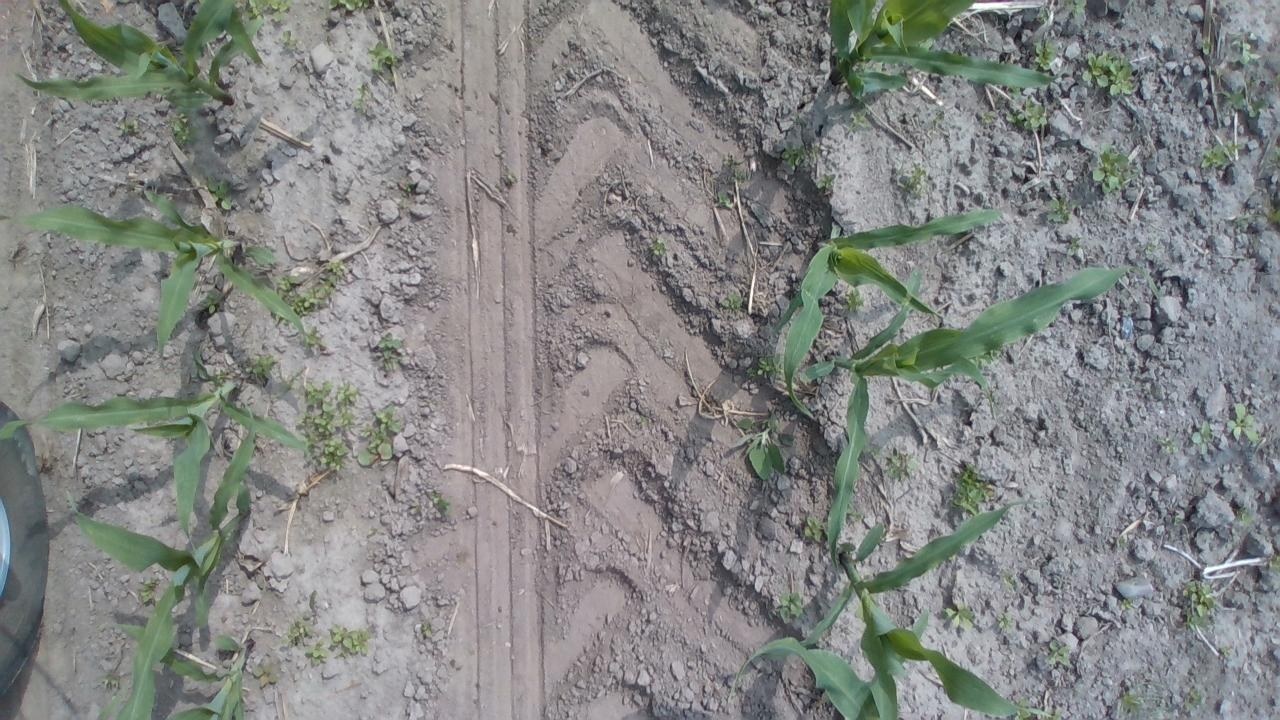Maize: (796, 264, 1162, 574), (0, 344, 313, 574), (780, 497, 1058, 720), (0, 189, 315, 361), (772, 206, 1004, 420), (66, 486, 250, 720), (13, 0, 266, 116), (822, 0, 1066, 109), (728, 608, 932, 720), (116, 620, 255, 720)
Weeds: (296, 382, 360, 472), (270, 260, 348, 316), (736, 415, 796, 481), (355, 402, 402, 466), (1078, 50, 1138, 96), (948, 461, 994, 517), (1092, 143, 1142, 193), (1182, 580, 1218, 631), (1223, 79, 1267, 120), (1004, 96, 1050, 130), (330, 622, 370, 659), (1225, 402, 1259, 442), (1200, 141, 1245, 170), (168, 111, 202, 149), (236, 0, 294, 21), (366, 40, 401, 74), (896, 164, 931, 198), (942, 599, 979, 631), (887, 446, 920, 481), (278, 616, 316, 646), (1228, 30, 1260, 65), (748, 352, 788, 380), (1047, 192, 1082, 223), (206, 174, 235, 210), (377, 330, 403, 368), (1029, 40, 1058, 72), (778, 590, 806, 623), (781, 146, 820, 168), (1190, 419, 1213, 456), (304, 638, 334, 666), (1044, 638, 1072, 666), (251, 662, 280, 688), (302, 324, 328, 352), (717, 284, 745, 310), (841, 285, 866, 313), (800, 516, 825, 544), (1117, 689, 1146, 713), (138, 572, 160, 602), (197, 290, 225, 312), (352, 81, 371, 113), (246, 353, 270, 377), (279, 27, 304, 49), (328, 0, 370, 13), (848, 110, 872, 130), (1184, 686, 1202, 712), (1067, 234, 1086, 256), (1014, 697, 1032, 720), (1064, 0, 1089, 16), (279, 378, 301, 396), (1157, 436, 1179, 454), (716, 188, 734, 209), (117, 119, 142, 134), (98, 673, 120, 690), (431, 494, 451, 512), (995, 612, 1014, 630), (816, 173, 836, 190), (999, 574, 1018, 590), (651, 238, 666, 256), (918, 37, 937, 51), (1267, 552, 1280, 572), (1238, 508, 1254, 524), (367, 524, 385, 538), (933, 109, 945, 128), (1034, 8, 1048, 24), (724, 156, 742, 168), (1140, 241, 1154, 256), (866, 446, 881, 460), (1269, 144, 1280, 163), (986, 350, 1004, 361), (1044, 709, 1062, 720), (846, 510, 864, 521), (980, 110, 994, 124), (1270, 207, 1280, 225), (420, 622, 432, 637), (1220, 646, 1234, 658), (730, 172, 746, 182), (1202, 38, 1212, 54), (1234, 216, 1250, 226), (1120, 598, 1133, 610), (1008, 84, 1022, 94), (213, 373, 224, 384), (1174, 514, 1182, 526), (1272, 73, 1280, 84), (404, 184, 410, 192)
